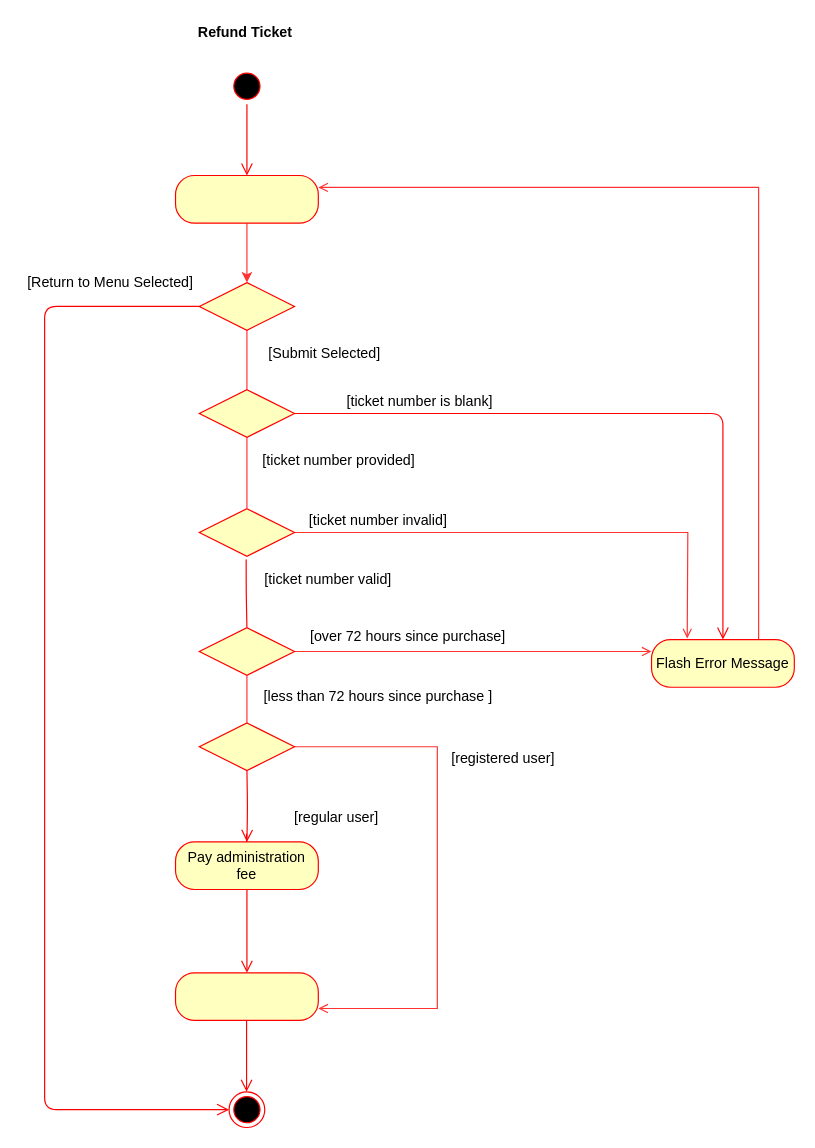
The diagram is 815 pixels wide and 1148 high, and some of its shapes have lost their labels. The shapes that lost their labels are listed below. From the top down, each one's box as (x1, y1, x2, y2) in pixels, then its label:
(174, 174, 318, 223): Prompt User for ticket number
(174, 972, 318, 1020): get coupon
